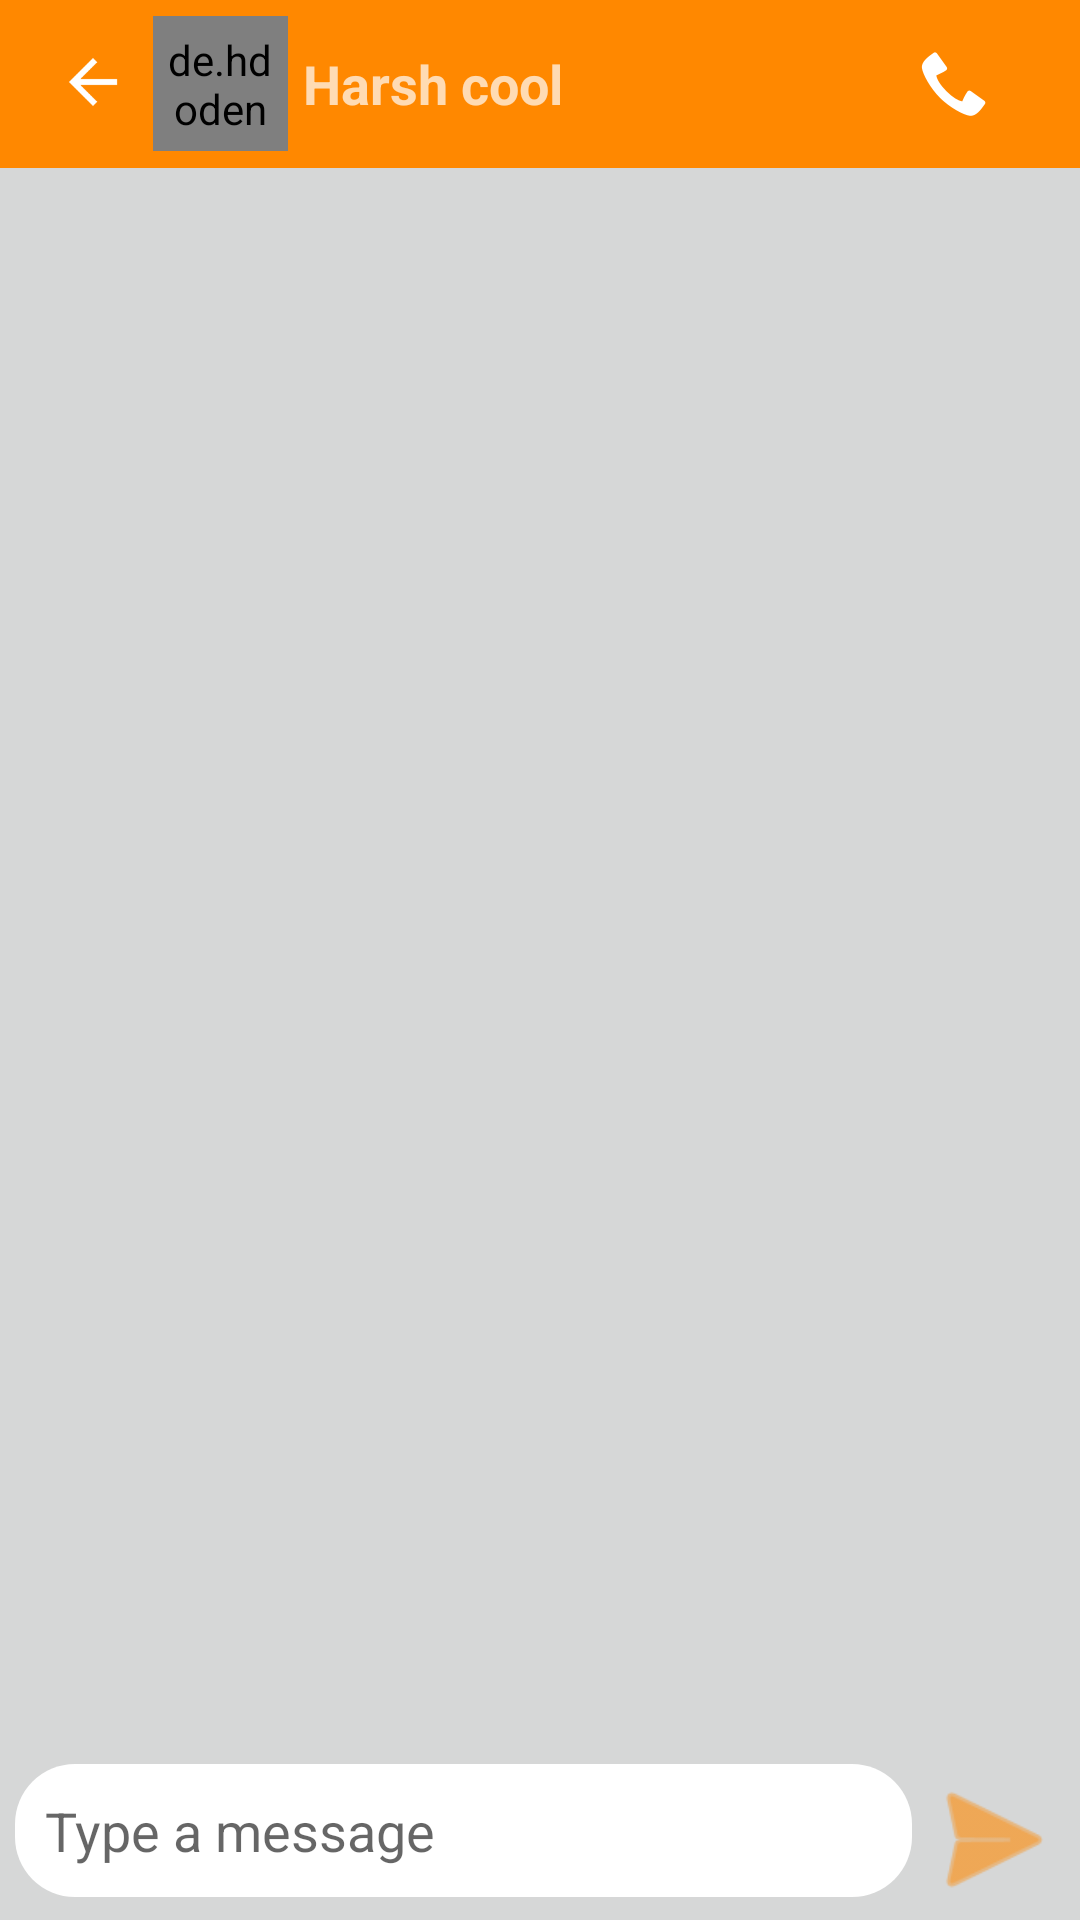

Icons on this 1080px×1920px Android screen, each with its box as (x1, y1, x2, y2):
phone call: (922, 52, 986, 116)
send: (946, 1792, 1042, 1887)
